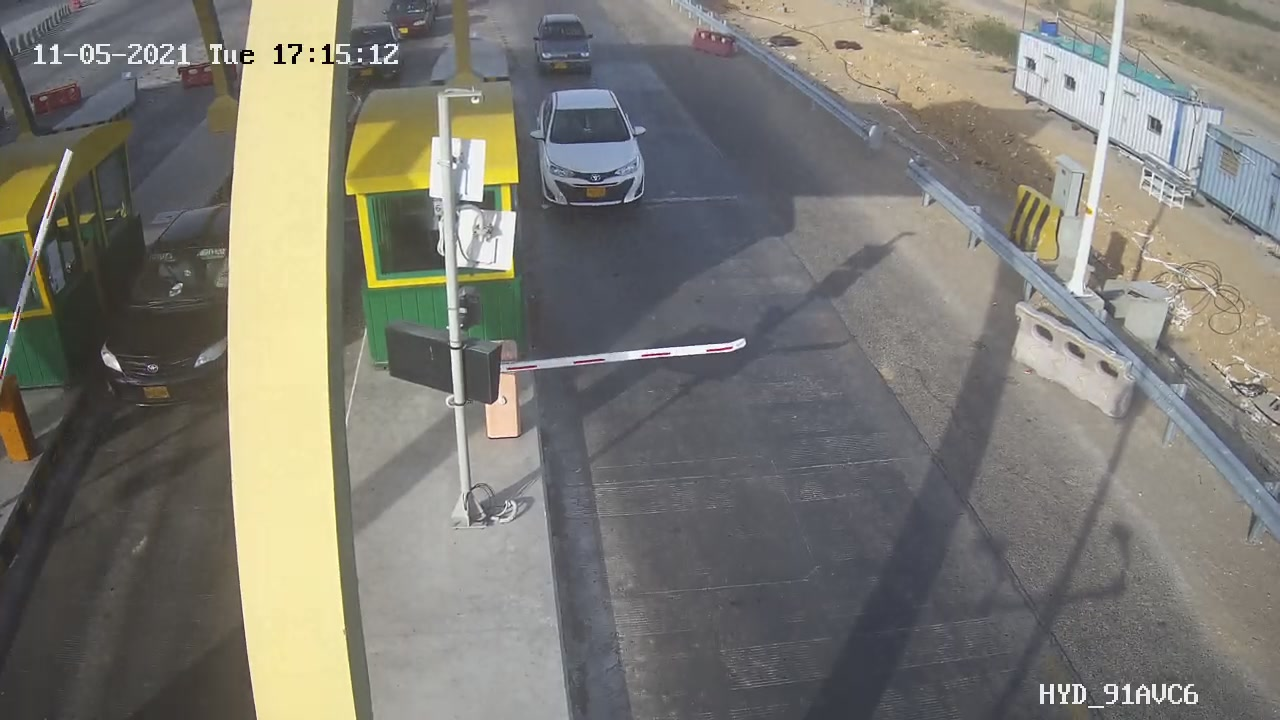F1: (514, 75, 664, 221)
